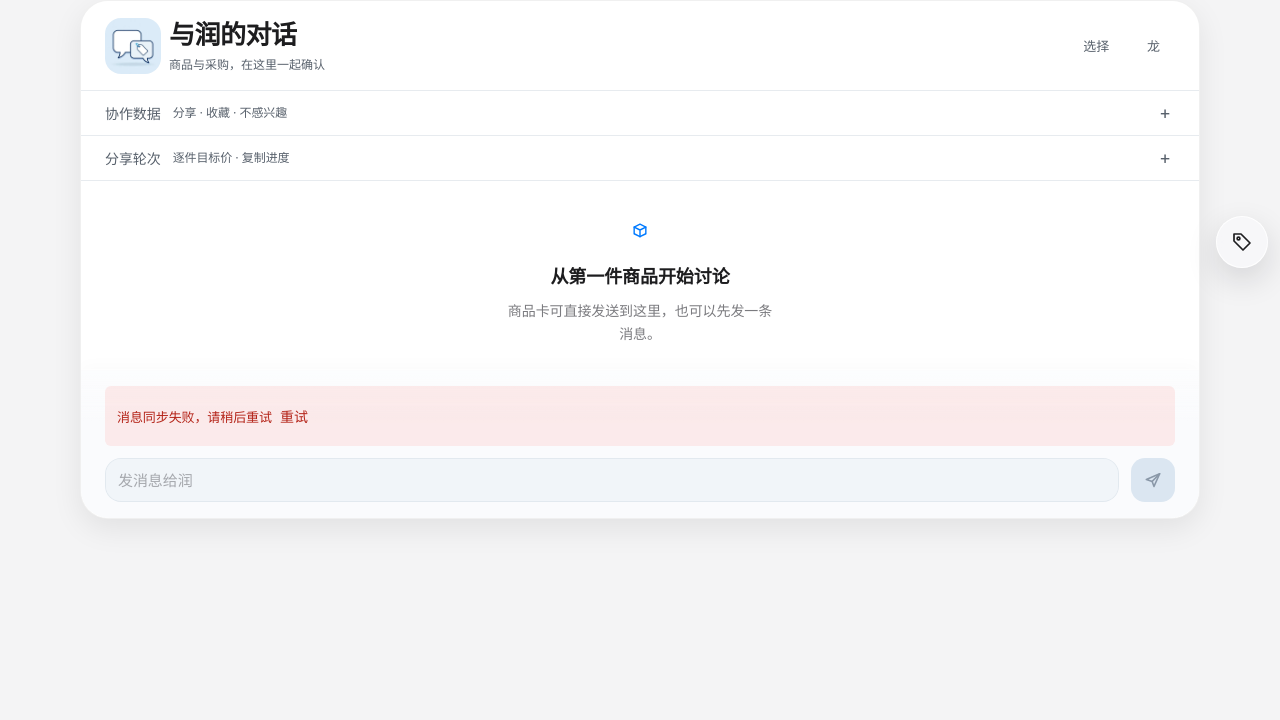
Test: Collaboration chat load error state › shows the sync error with a retry, and recovers when the retry succeeds
The width and height of the screenshot is (1280, 720).
Check: the message with test id "load-error" shows "消息同步失败", box [117,409,272,425]
Step 1. Click the button with test id "retry-collaboration" → (294, 416), box [272,394,316,438]
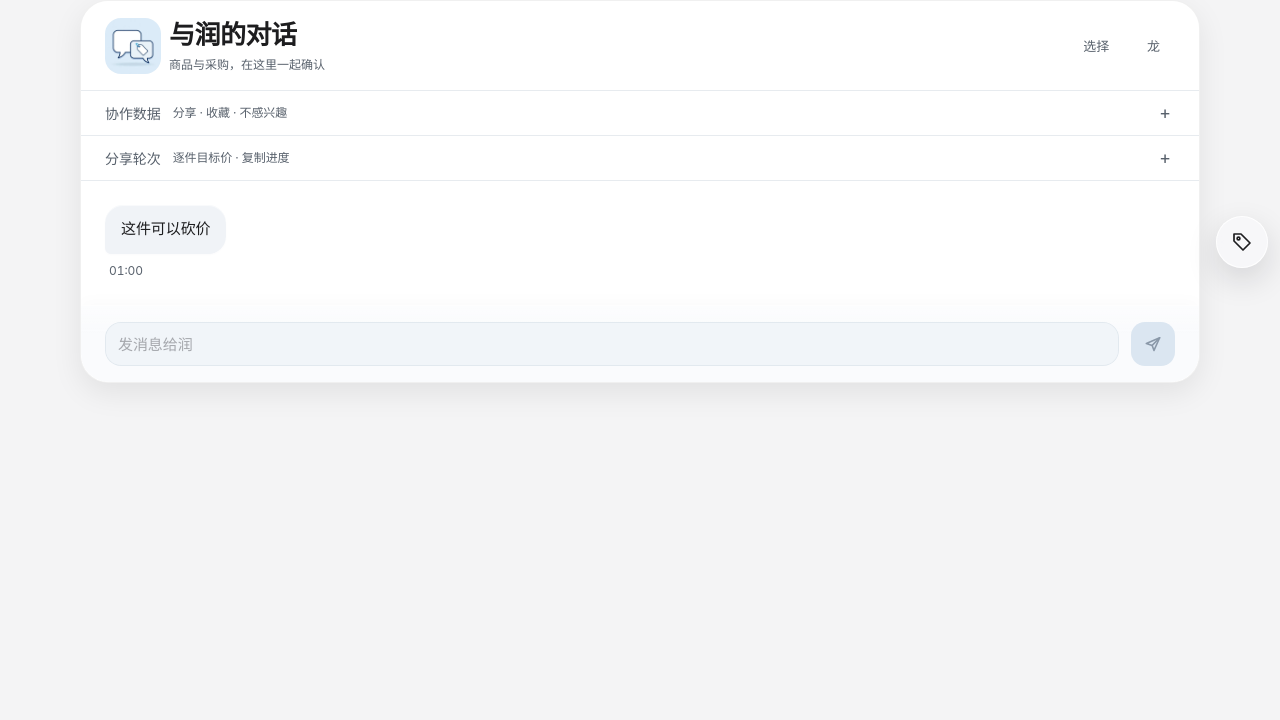
Check: the text "这件可以砍价" is shown, box [121,217,210,242]
Check: the message with test id "load-error" is gone
